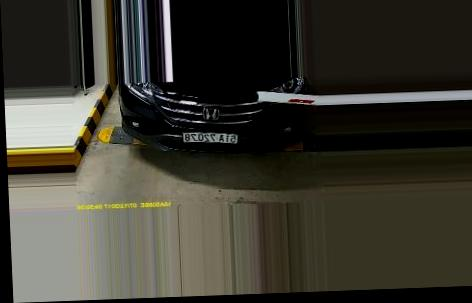License_Plate: (176, 124, 240, 149)
